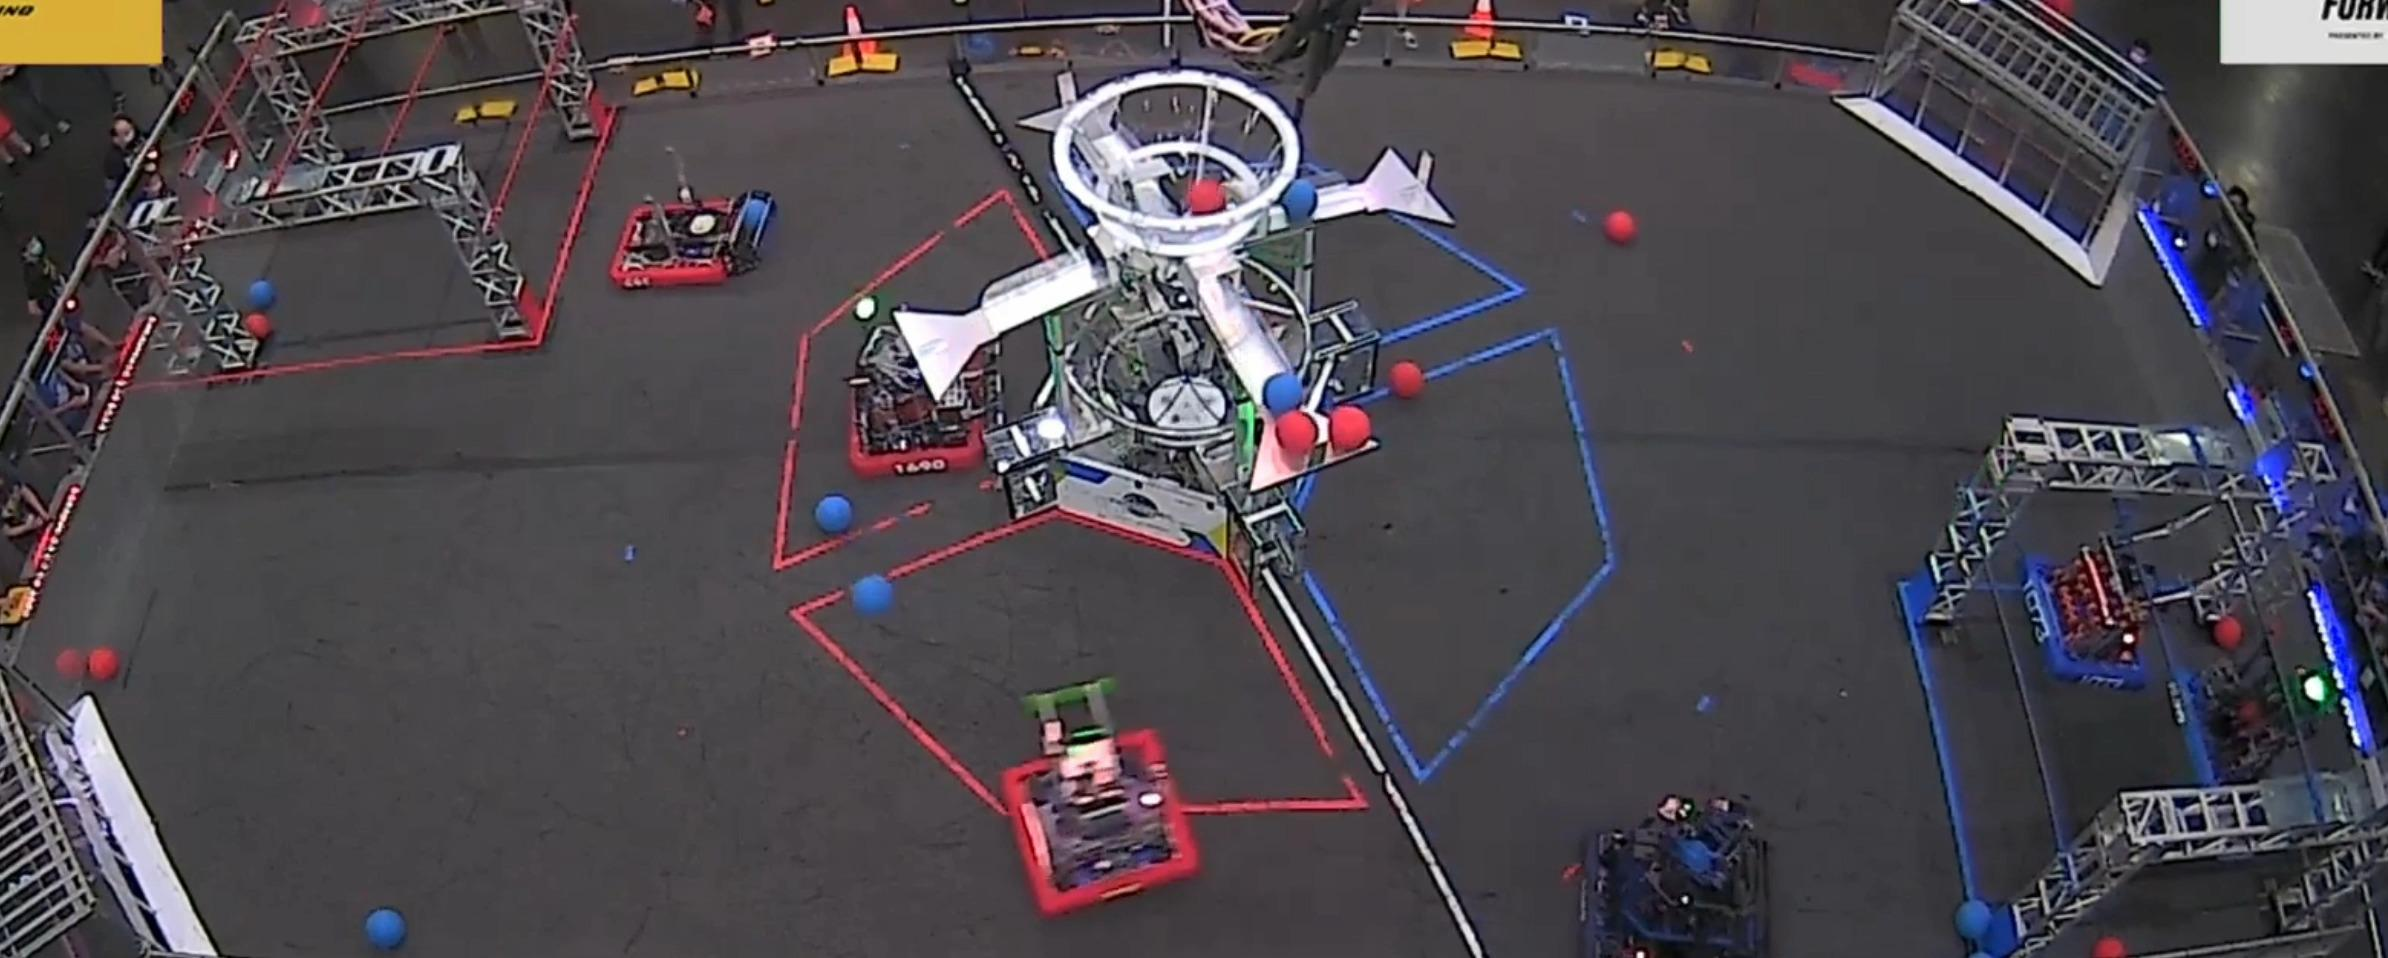Robots: (1001, 679, 1196, 915), (1575, 795, 1767, 956), (2170, 635, 2365, 774), (845, 309, 998, 472), (611, 145, 774, 286), (2026, 545, 2152, 691)
